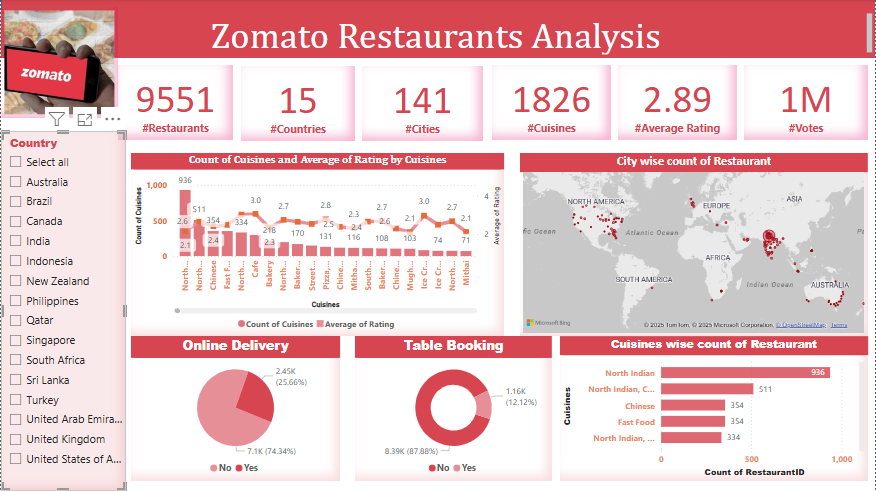

What the dashboard file says about the page in this screenshot:
{"tool":"powerbi","page":{"name":"Page 1","canvas":[1280,720],"ordinal":0},"visuals":[{"type":"shape","box":[0,0,1280.5,86.3],"z":0},{"type":"textbox","box":[150,256,300,300],"z":1000},{"type":"textbox","box":[0,16.1,1280.5,70.2],"z":2000},{"type":"image","box":[0,11.7,171.2,162.4],"z":3000},{"type":"card","fields":{"Values":["CountNonNull(Resturants.RestaurantID)"]},"box":[171.2,96.6,168.3,109.8],"z":4000},{"type":"card","fields":{"Values":["Count(Resturants.City)"]},"box":[528.3,98,177.1,109.8],"z":5000},{"type":"card","fields":{"Values":["Count(Resturants.Cuisines)"]},"box":[718.5,96.6,174.1,109.8],"z":6000},{"type":"card","fields":{"Values":["Avg(Resturants.Rating)"]},"box":[902.9,96.6,174.1,109.8],"z":7000},{"type":"card","fields":{"Values":["Sum(Resturants.Votes)"]},"box":[1087.3,96.6,181.5,109.8],"z":8000},{"type":"slicer","fields":{"Values":["Country.country name"]},"box":[0,193.2,182.9,526.8],"z":9000},{"type":"lineStackedColumnComboChart","fields":{"Category":["Resturants.Cuisines"],"Y":["CountNonNull(Resturants.Cuisines)"],"Y2":["Avg(Resturants.Rating)"]},"box":[190.2,225.4,545.9,267.8],"z":10000},{"type":"barChart","title":"Cuisines wise count of Restaurant","fields":{"Y":["CountNonNull(Resturants.RestaurantID)"],"Category":["Resturants.Cuisines"]},"box":[818,493.2,450.7,212.2],"z":11000},{"type":"map","title":"City wise count of Restaurant","fields":{"Category":["Resturants.City"],"Size":["CountNonNull(Resturants.RestaurantID)"]},"box":[759.5,225.4,509.3,267.8],"z":12000},{"type":"pieChart","title":"Online Delivery","fields":{"Category":["Resturants.Has_Online_delivery"],"Y":["CountNonNull(Resturants.RestaurantID)"]},"box":[190.2,493.2,305.9,212.2],"z":13000},{"type":"donutChart","title":"Table Booking","fields":{"Category":["Resturants.Has_Table_booking"],"Y":["CountNonNull(Resturants.RestaurantID)"]},"box":[518,493.2,288.3,212.2],"z":14000},{"type":"card","fields":{"Values":["Count(Country.country name)"]},"box":[351.2,98,166.8,109.8],"z":15000}]}

Visuals, with their boxes in screenshot pixels (x1, y1, x2, y2), scaled from the page's 1280x720 canvas onto the 876x491 screenshot:
shape: [left=0, top=0, right=875, bottom=59]
textbox: [left=103, top=175, right=308, bottom=379]
textbox: [left=0, top=11, right=875, bottom=59]
image: [left=0, top=8, right=117, bottom=119]
card - CountNonNull(Resturants.RestaurantID): [left=117, top=66, right=232, bottom=141]
card - Count(Resturants.City): [left=362, top=67, right=483, bottom=142]
card - Count(Resturants.Cuisines): [left=492, top=66, right=611, bottom=141]
card - Avg(Resturants.Rating): [left=618, top=66, right=737, bottom=141]
card - Sum(Resturants.Votes): [left=744, top=66, right=868, bottom=141]
slicer - Country.country name: [left=0, top=132, right=125, bottom=490]
lineStackedColumnComboChart - Resturants.Cuisines x CountNonNull(Resturants.Cuisines): [left=130, top=154, right=504, bottom=336]
"Cuisines wise count of Restaurant" barChart: [left=560, top=336, right=868, bottom=481]
"City wise count of Restaurant" map: [left=520, top=154, right=868, bottom=336]
"Online Delivery" pieChart: [left=130, top=336, right=340, bottom=481]
"Table Booking" donutChart: [left=355, top=336, right=552, bottom=481]
card - Count(Country.country name): [left=240, top=67, right=355, bottom=142]
